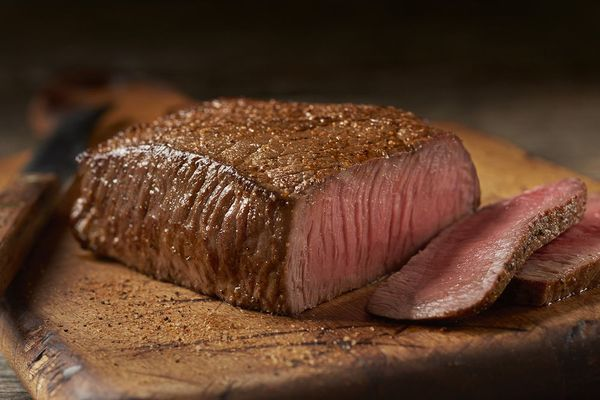sushi: (63, 93, 487, 316)
